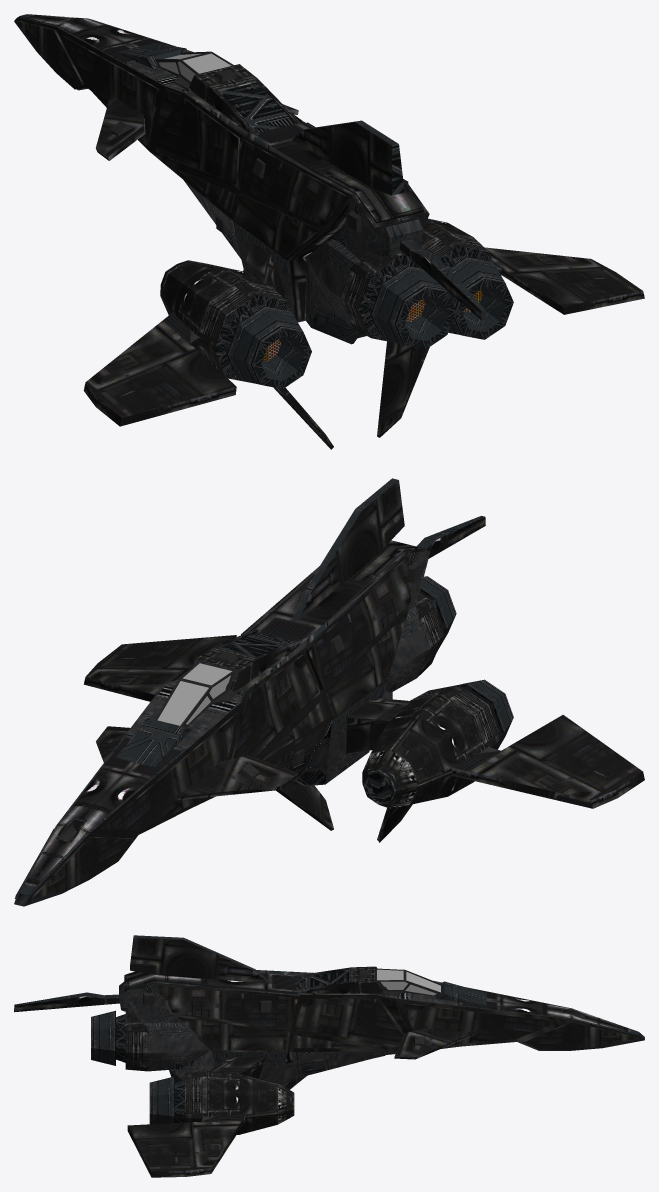
The model's file is 30-ts-serpent.obj.
3 renders of one model, top to bottom at view 1: azimuth 30°, elevation 25°; view 2: azimuth 150°, elevation 25°; view 3: azimuth 270°, elevation 25°, orthographic. The views are drawn at different scales.
Parts seen in each view (by area): view 1: Serpent_window_Untitled.004; view 2: Serpent_window_Untitled.004; view 3: Serpent_window_Untitled.004.
Boxes of the visible parts, <box> form: Serpent_window_Untitled.004: <box>14,14,644,449</box>; Serpent_window_Untitled.004: <box>14,478,644,906</box>; Serpent_window_Untitled.004: <box>14,935,644,1177</box>.
Bounding box in the file's own units: 8.21 × 4.91 × 12.58.
